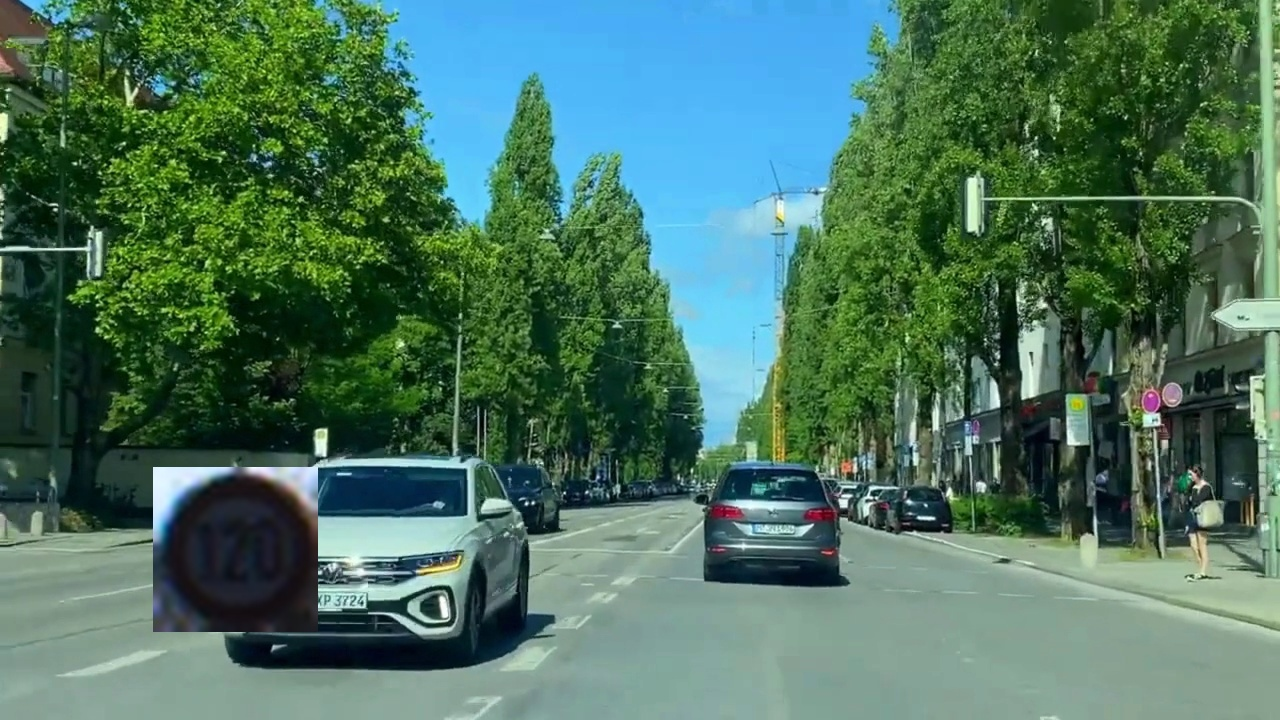Speed 120: (153, 467, 318, 632)
